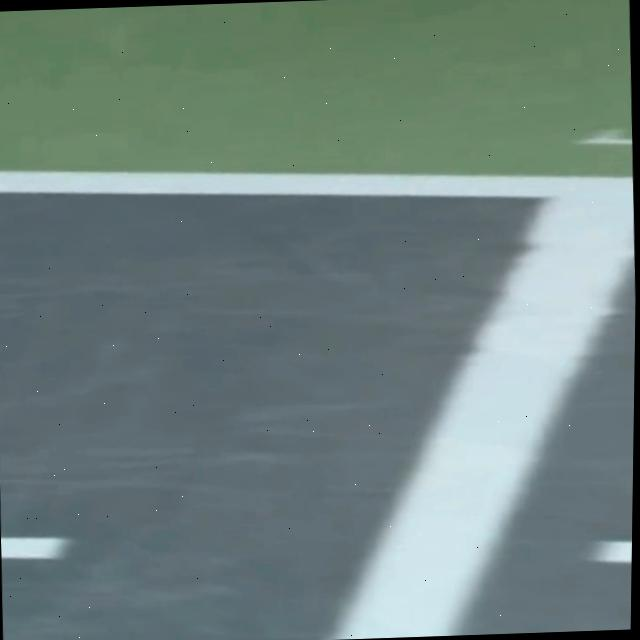center: (0, 537, 69, 558), (590, 542, 632, 561)
right: (0, 170, 633, 197)
